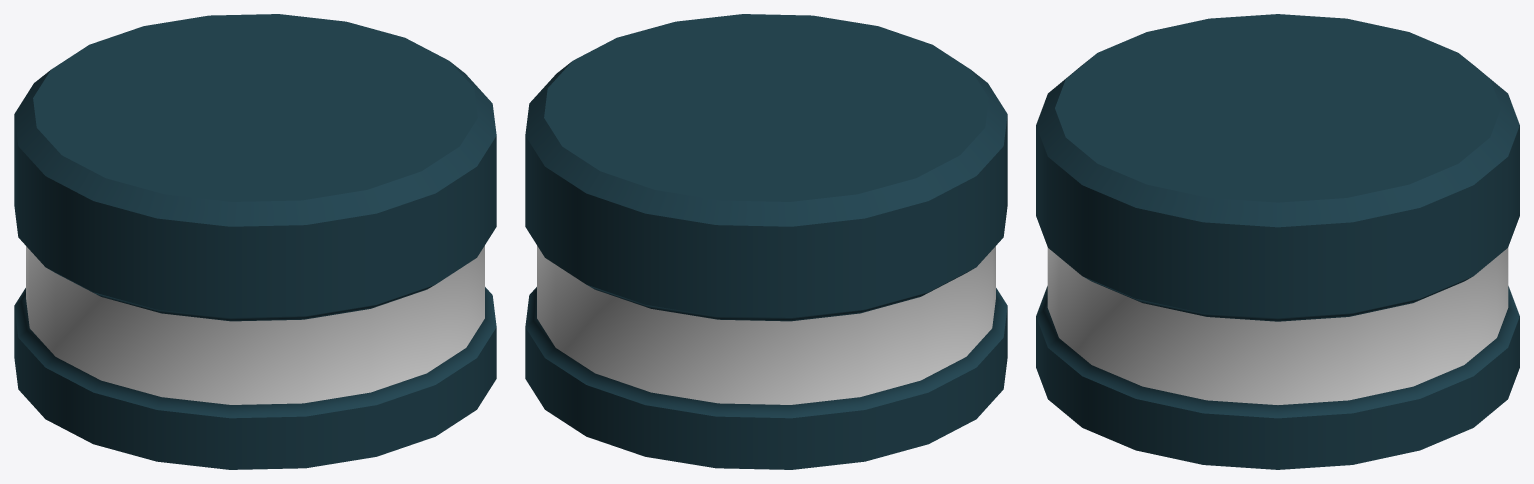
Rendered from Aquarium_mesh.fbx.
The picture shows the model from 3 angles, left to right: view 1: azimuth 30°, elevation 25°; view 2: azimuth 150°, elevation 25°; view 3: azimuth 270°, elevation 25°; orthographic projection.
Parts seen in each view (by area): view 1: Aquarium_mesh; view 2: Aquarium_mesh; view 3: Aquarium_mesh.
Boxes of the visible parts, x1,y1,x2,y2 form: Aquarium_mesh: [14, 14, 496, 469]; Aquarium_mesh: [525, 14, 1007, 469]; Aquarium_mesh: [1036, 14, 1519, 469].
Size of the model in its own units: 1818 by 1076 by 1818.
